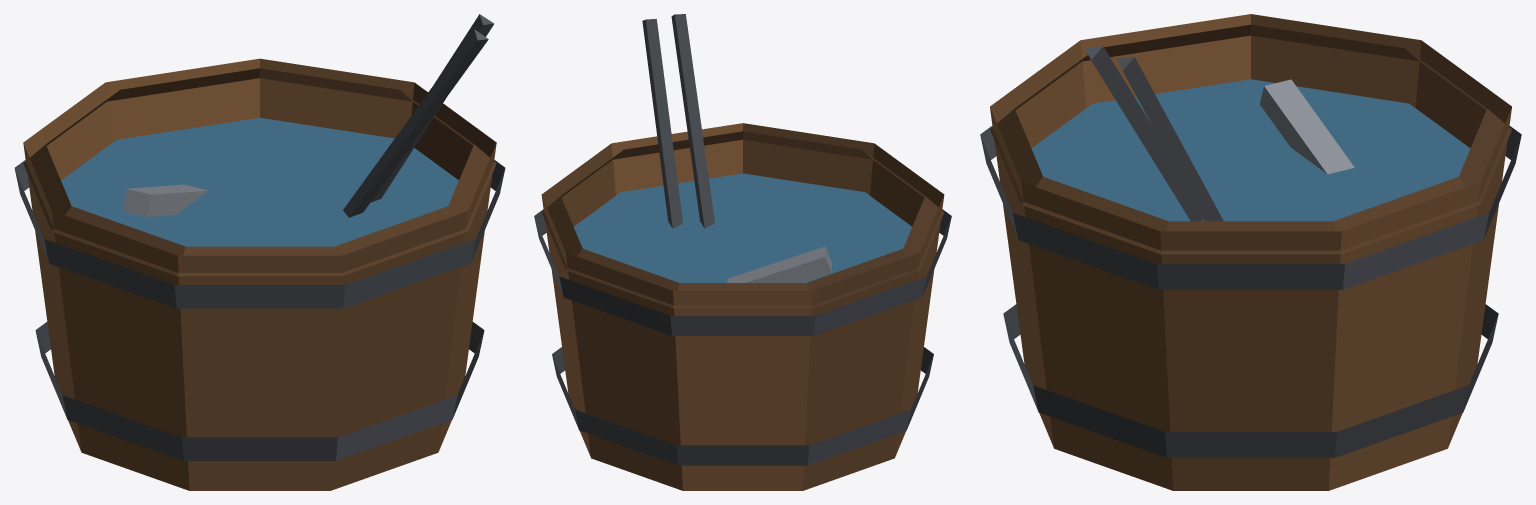
Rendered from quench_bucket.glb.
3 renders of one model, left to right at view 1: azimuth 30°, elevation 25°; view 2: azimuth 150°, elevation 25°; view 3: azimuth 270°, elevation 25°, orthographic. The views are drawn at different scales.
Parts seen in each view (by area): view 1: quench_bucket; view 2: quench_bucket; view 3: quench_bucket.
Boxes of the visible parts, box(x1,y1,x2,y2) form: quench_bucket: box(14, 14, 505, 490); quench_bucket: box(534, 14, 951, 490); quench_bucket: box(980, 14, 1521, 490).
Size of the model in its own units: 0.8449 by 0.7583 by 0.858.
